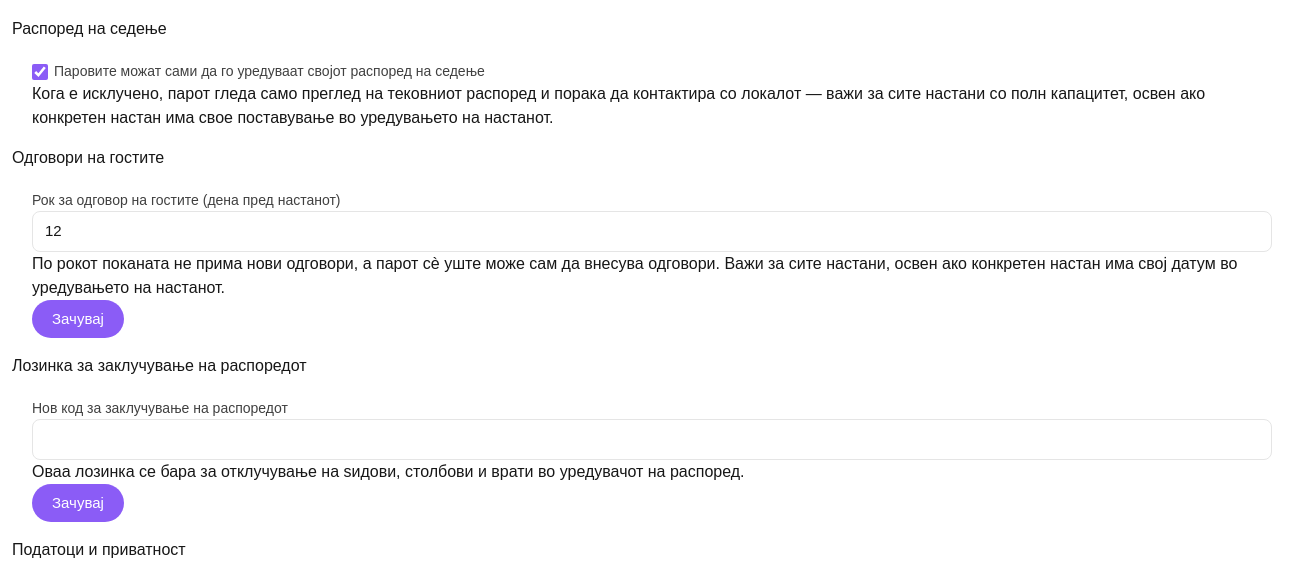
Scenario: SettingsClient — guests' answer deadline (0180) › loads the venue's days and saves a new number for the owner
(page scrolled)
Replace the text in the number field labelled "Рок за одговор на гостите (дена пред настанот)" with "20" at (652, 231), box [32,211,1272,252]
(page scrolled)
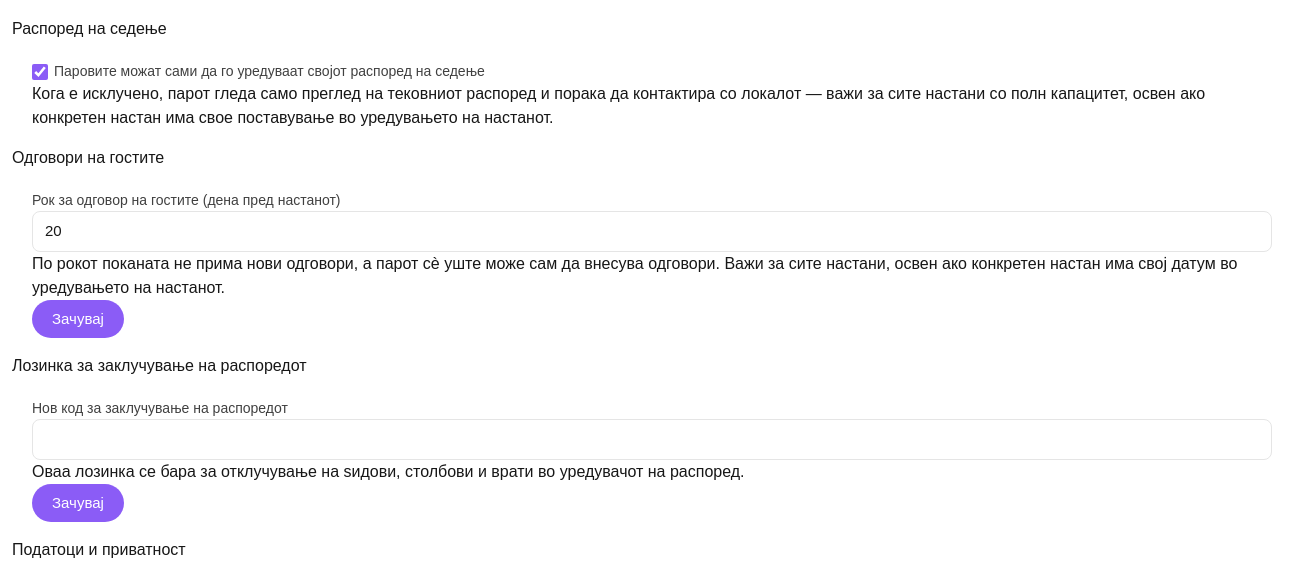
Submit the form labelled "Рок за одговор на гостите (дена пред настанот)", box [12,170,1291,354]
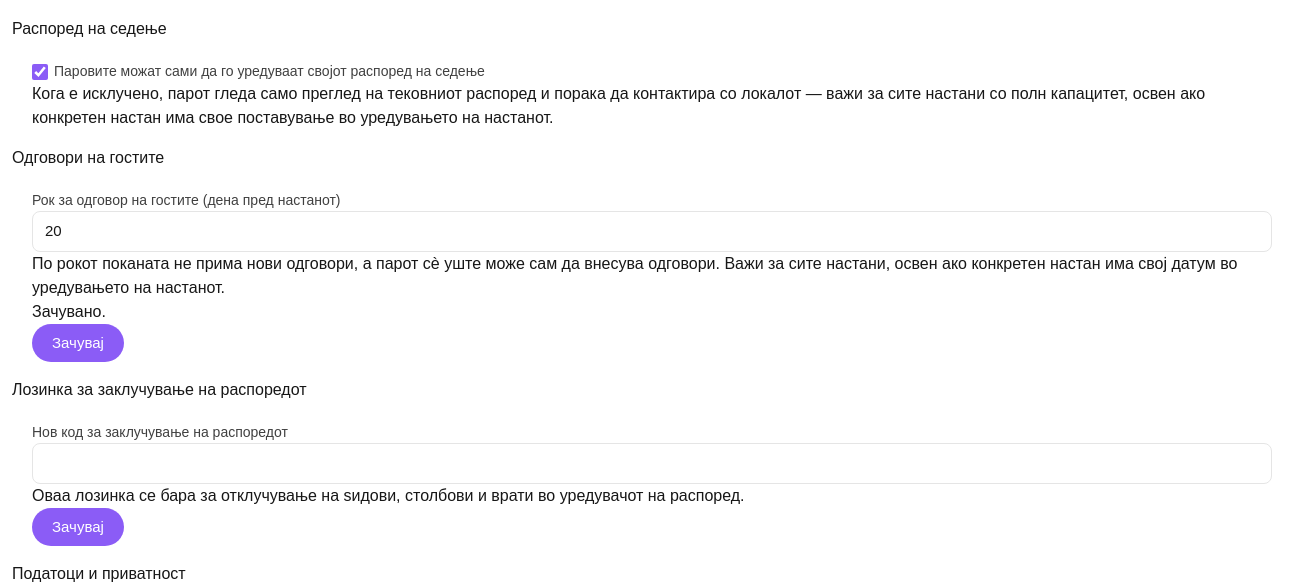
Check: the text "Зачувано." is shown, box [32,302,106,320]
